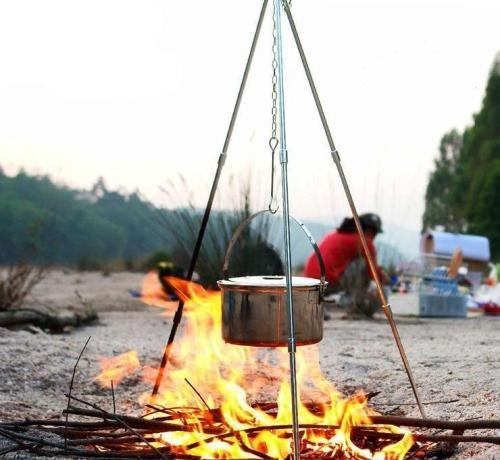fire: (119, 267, 400, 459), (95, 348, 142, 384)
